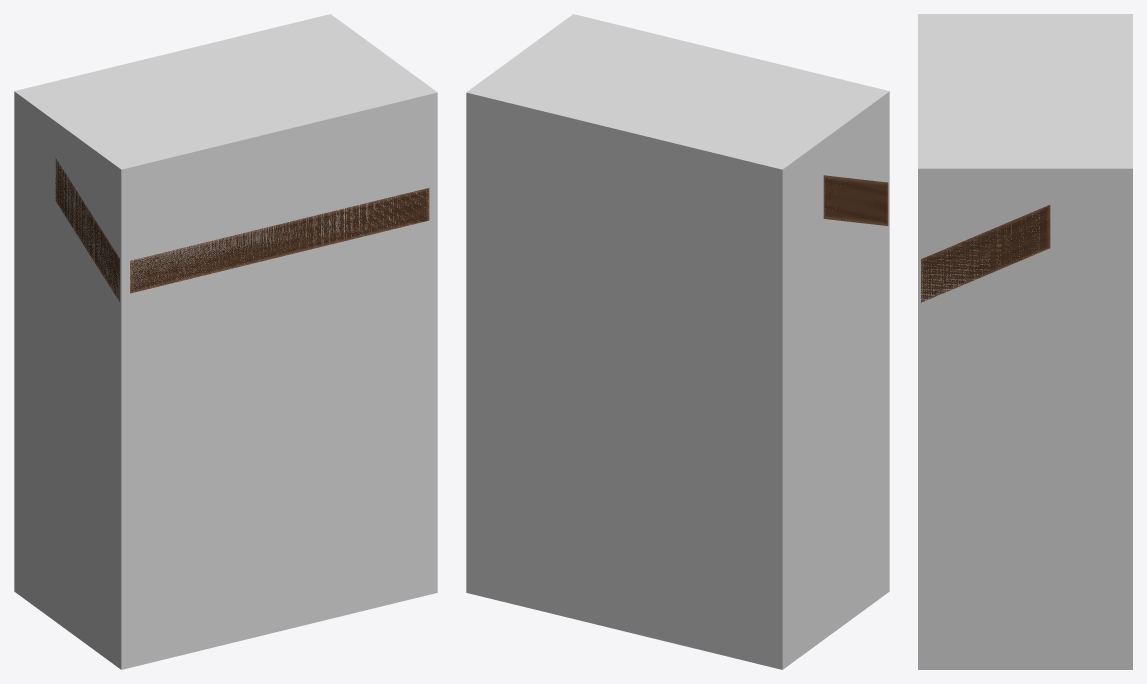
Rendered from house_wall_shopfront.glb.
3 views of the same model, side by side, from view 1: azimuth 30°, elevation 25°; view 2: azimuth 150°, elevation 25°; view 3: azimuth 270°, elevation 25° (orthographic).
Parts seen in each view (by area): view 1: COL_house_wall_shopfront_static_00, house_wall_shopfront_static; view 2: COL_house_wall_shopfront_static_00, house_wall_shopfront_static; view 3: COL_house_wall_shopfront_static_00, house_wall_shopfront_static.
Boxes of the visible parts, x1,y1,x2,y2 form: COL_house_wall_shopfront_static_00: (14,14,437,669); house_wall_shopfront_static: (55,158,429,301); COL_house_wall_shopfront_static_00: (466,14,889,669); house_wall_shopfront_static: (823,175,888,225); COL_house_wall_shopfront_static_00: (918,14,1132,669); house_wall_shopfront_static: (921,205,1050,302).
Bounding box in the file's own units: 1.84 × 2.78 × 1.08.
Materials: 3 (3 with a texture image).
